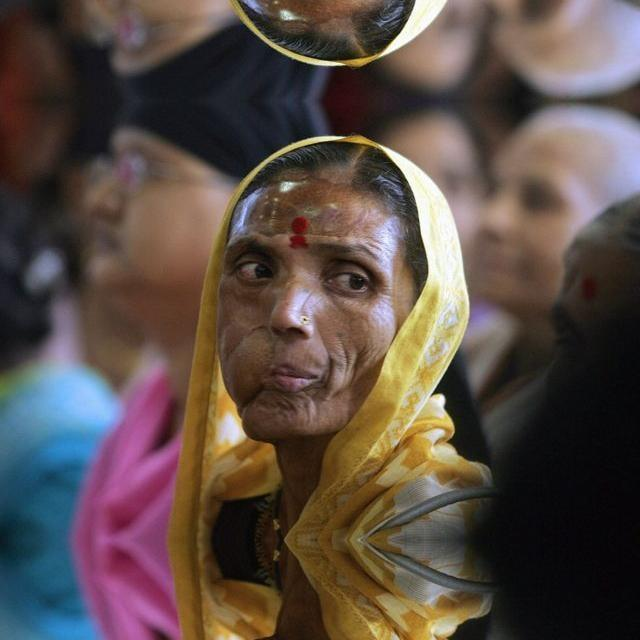person: (182, 118, 474, 470), (181, 0, 474, 82), (181, 608, 474, 640)
